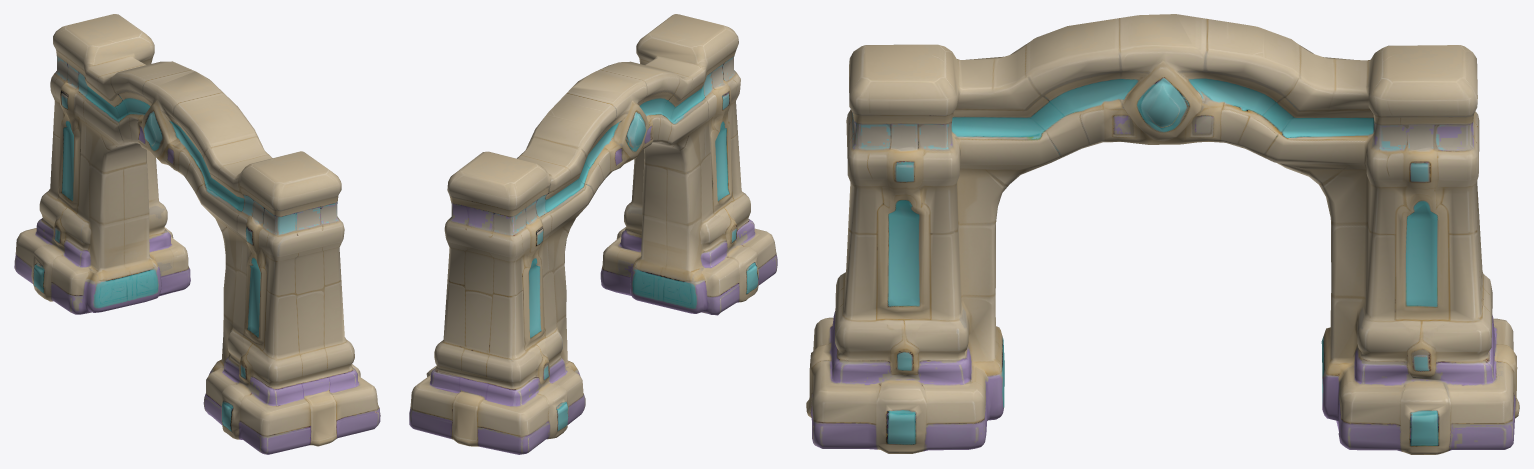
The model's file is 05-garden-main-gate.glb.
3 views of the same model, side by side, from view 1: azimuth 30°, elevation 25°; view 2: azimuth 150°, elevation 25°; view 3: azimuth 270°, elevation 25° (orthographic). The views are drawn at different scales.
Parts seen in each view (by area): view 1: tripo_node_4f99d8b9; view 2: tripo_node_4f99d8b9; view 3: tripo_node_4f99d8b9.
Part boxes in pixels (x1,y1,x2,y2): tripo_node_4f99d8b9: [14, 14, 380, 454]; tripo_node_4f99d8b9: [409, 14, 777, 454]; tripo_node_4f99d8b9: [806, 14, 1519, 454].
Bounding box in the file's own units: 0.6172 × 1.2 × 2.06.
1 material, 1 textured.
